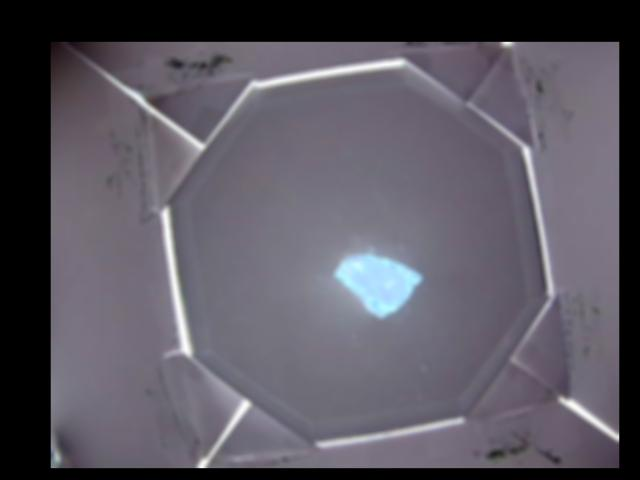Brisk: (335, 253, 424, 317)
